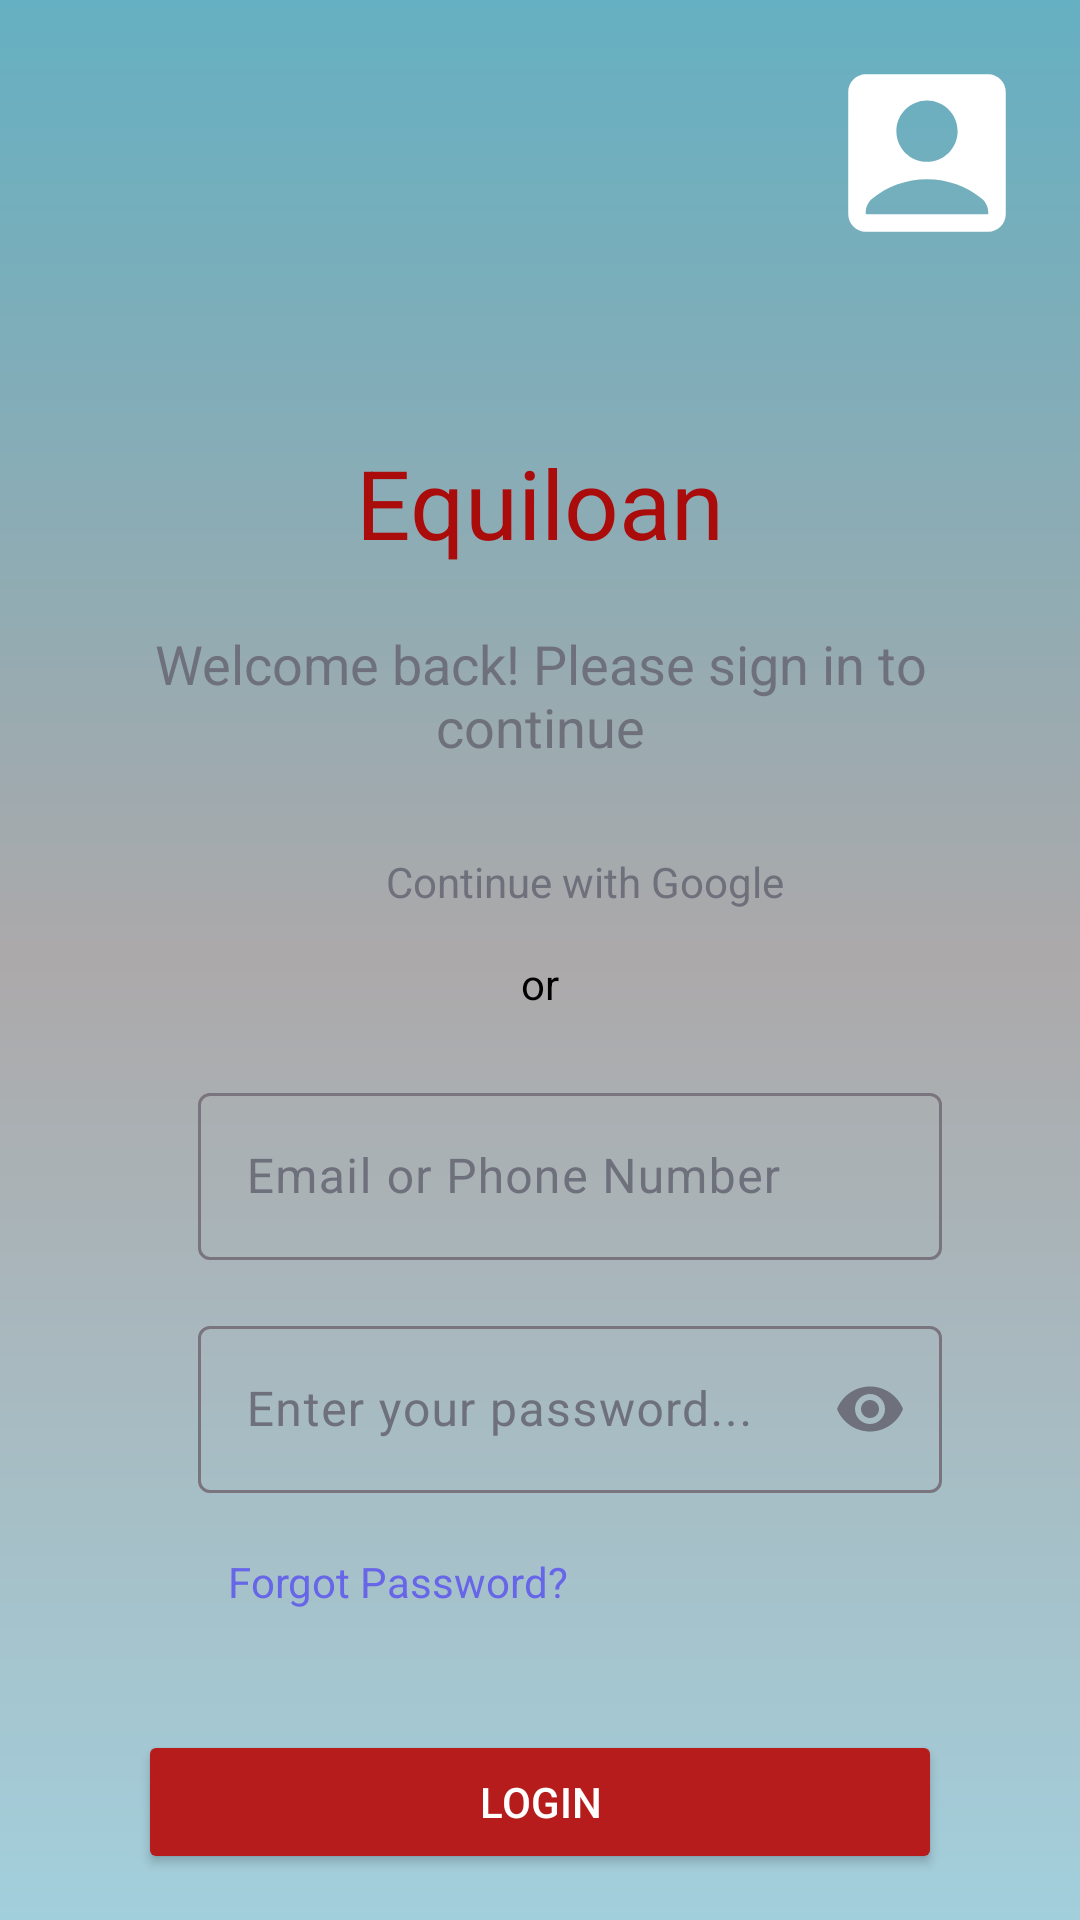

Point at icon controls on the screen. Image size 1080×1920, points as (x=x, y=y).
account: (x=927, y=153)
